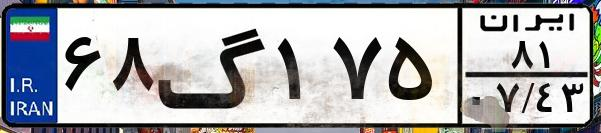0: (470, 70, 495, 125)
1: (270, 28, 330, 110), (537, 27, 568, 80)
3: (560, 70, 590, 125)
4: (535, 70, 560, 125)
5: (385, 28, 445, 110)
6: (57, 26, 110, 100)
7: (330, 28, 385, 110), (495, 70, 520, 125)
8: (110, 28, 156, 98), (508, 27, 537, 80)
گ: (156, 12, 270, 120)
